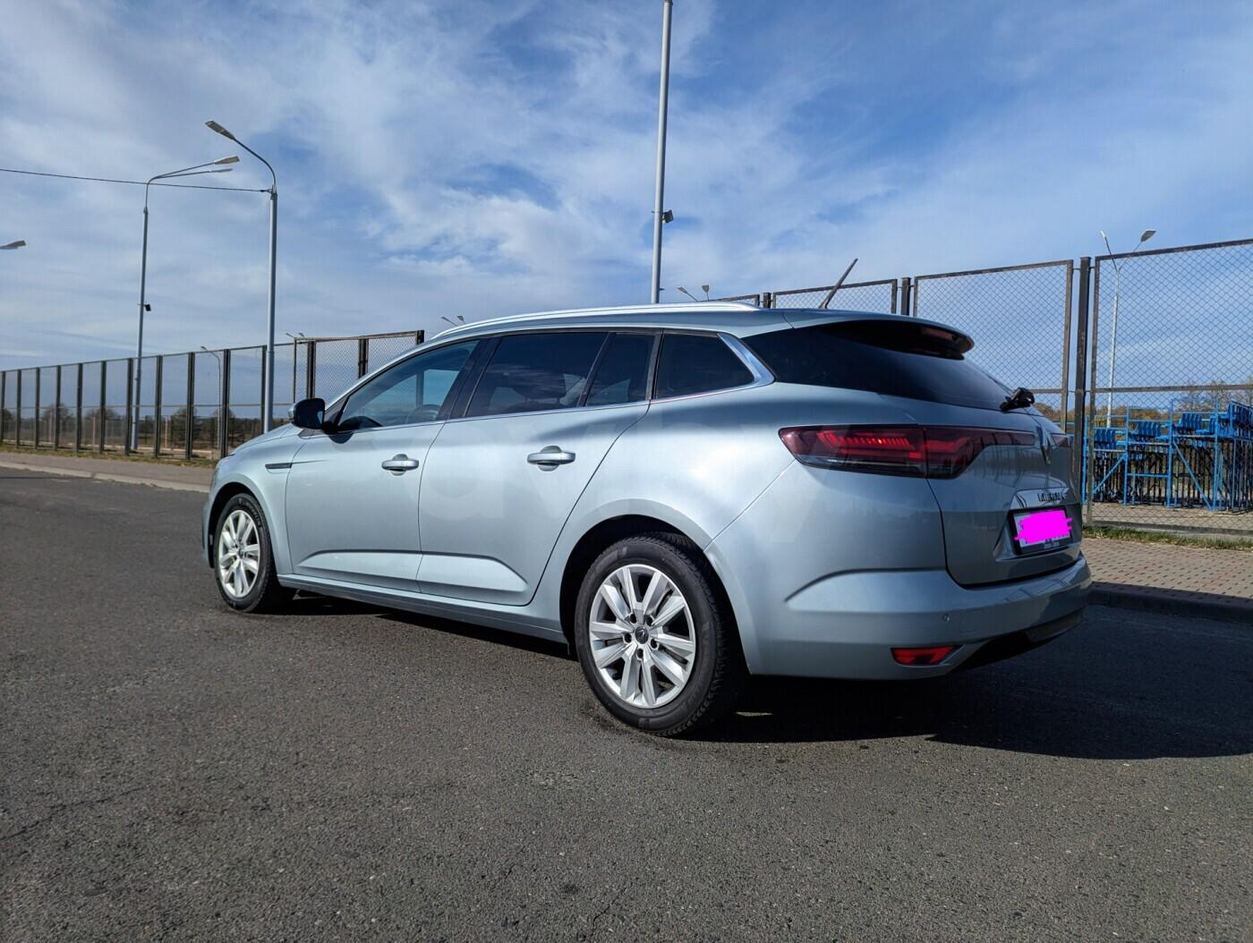Megane_2020: (199, 302, 1093, 737)
